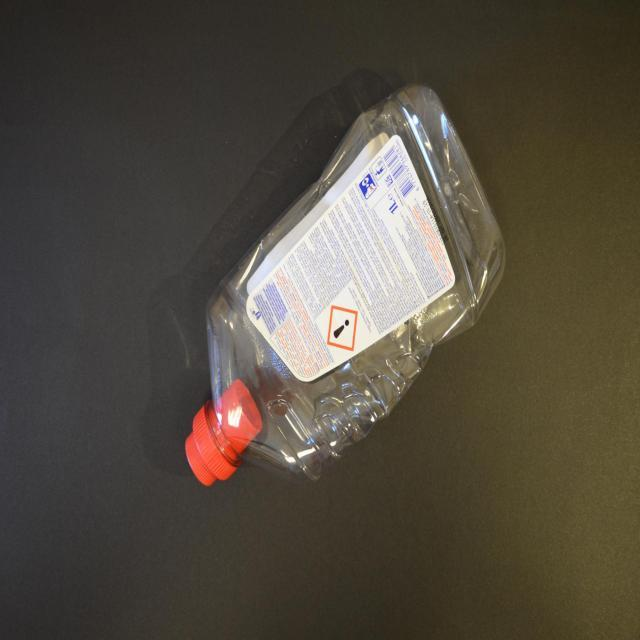plastic_bottle: (185, 85, 507, 487)
